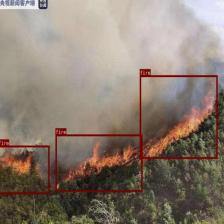fire: (139, 75, 218, 158), (55, 134, 142, 192), (0, 145, 49, 193)
